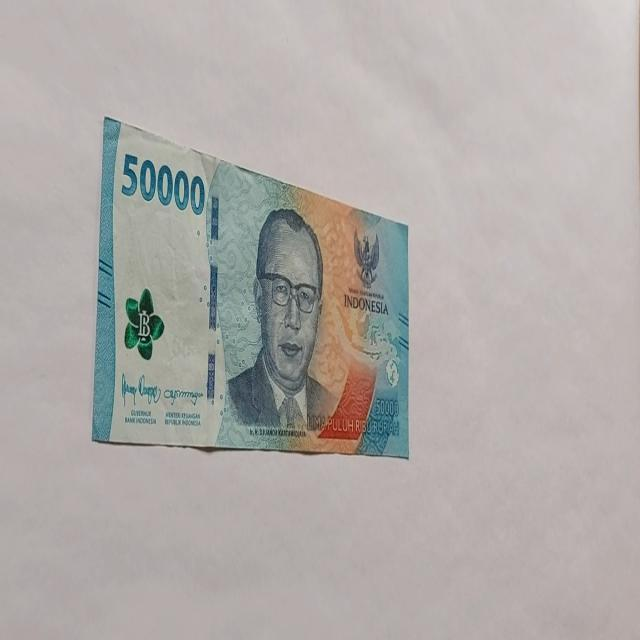lima puluh ribu rupiah: (91, 115, 411, 458), (219, 206, 341, 444)
